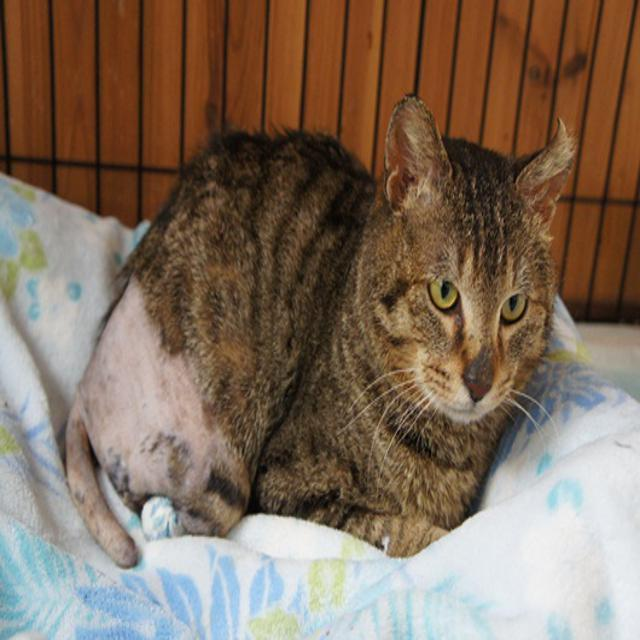hairloss: (83, 288, 211, 515)
